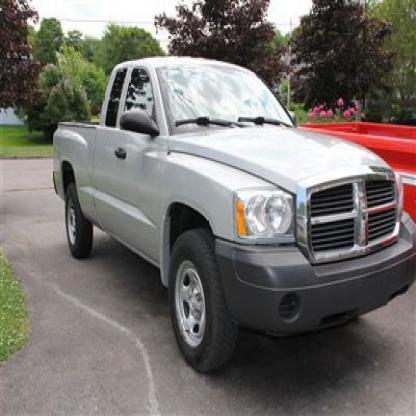Vehicle: (50, 53, 415, 382)
